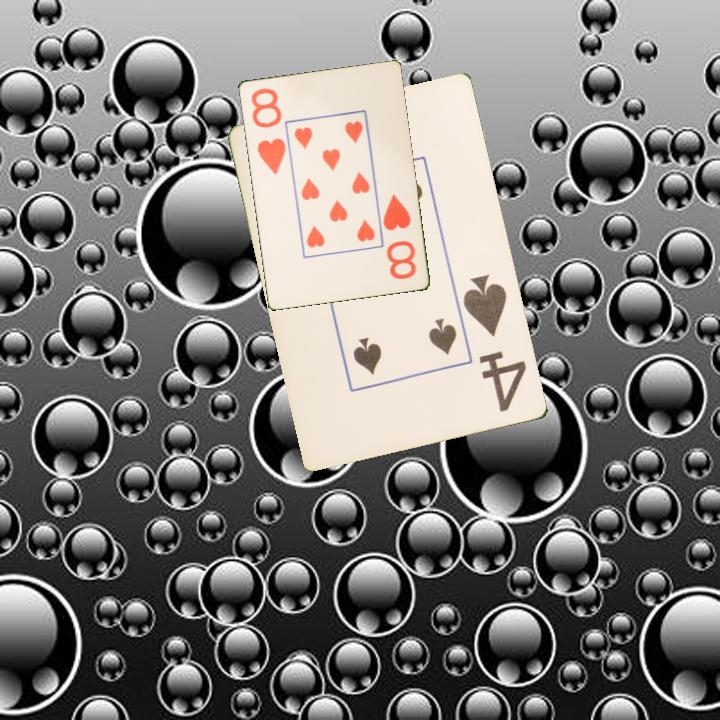4s: (460, 271, 530, 415)
8h: (247, 84, 288, 177), (379, 190, 419, 282)
